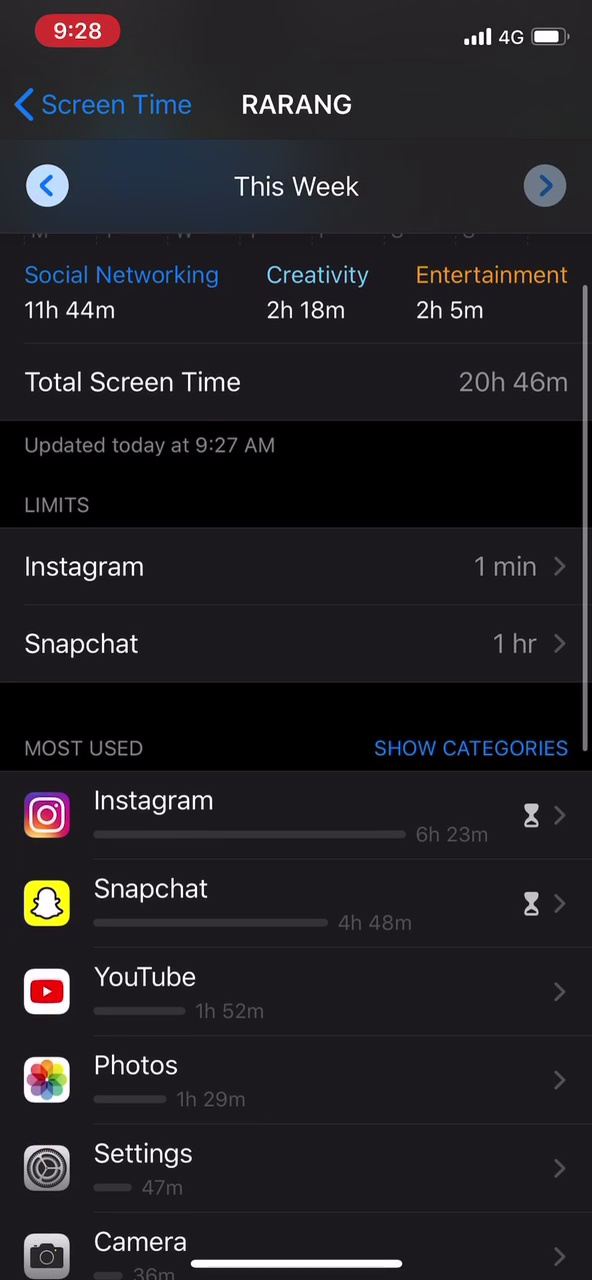use_over: (13, 254, 576, 405)
week: (223, 163, 370, 209)
